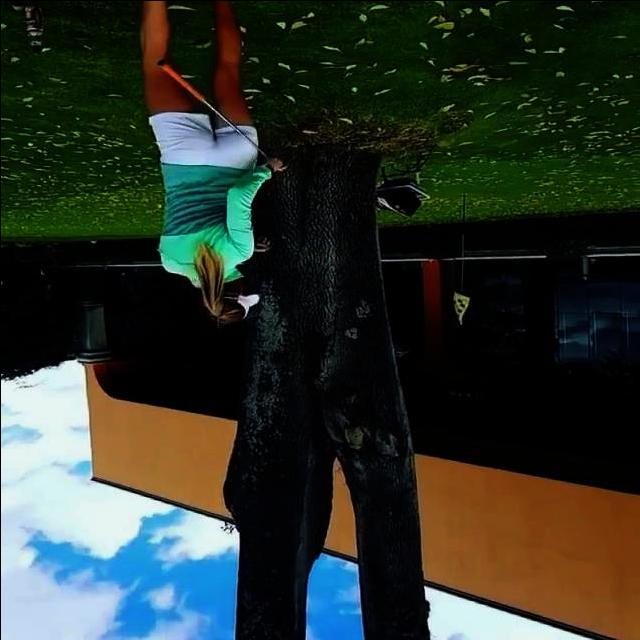golf club-handle: (156, 58, 288, 171)
golf club-head: (277, 159, 287, 170)
